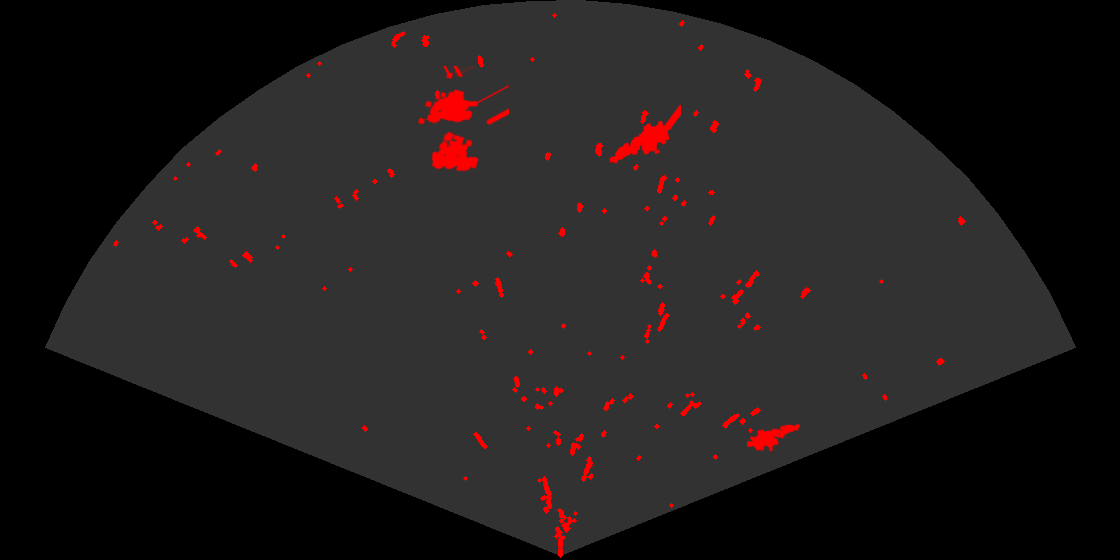cage: (416, 66, 509, 173)
frogman: (608, 105, 681, 165), (747, 423, 800, 454)
